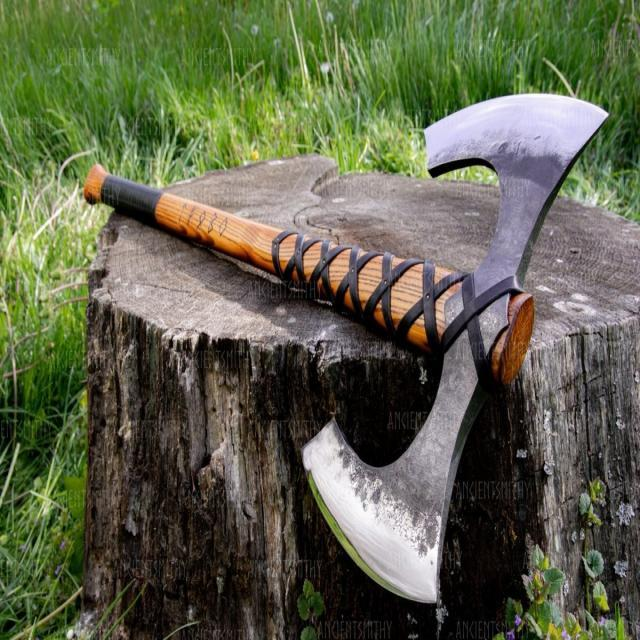axe: (86, 92, 612, 607)
